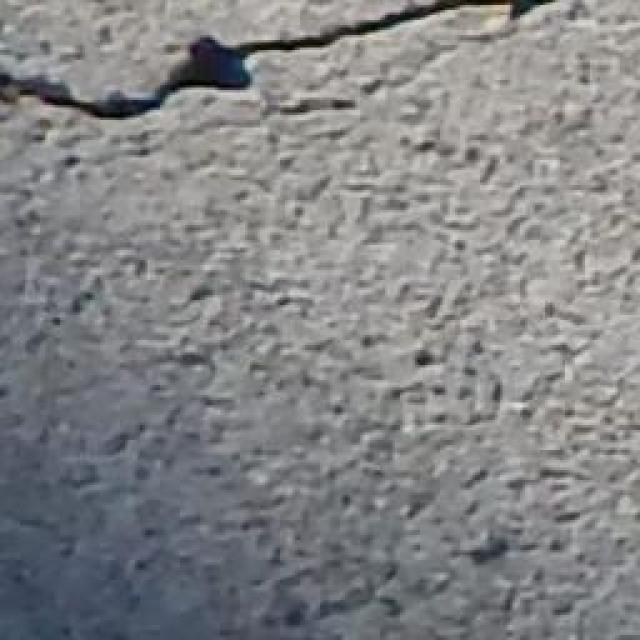concrete-crack: (0, 2, 574, 129)
